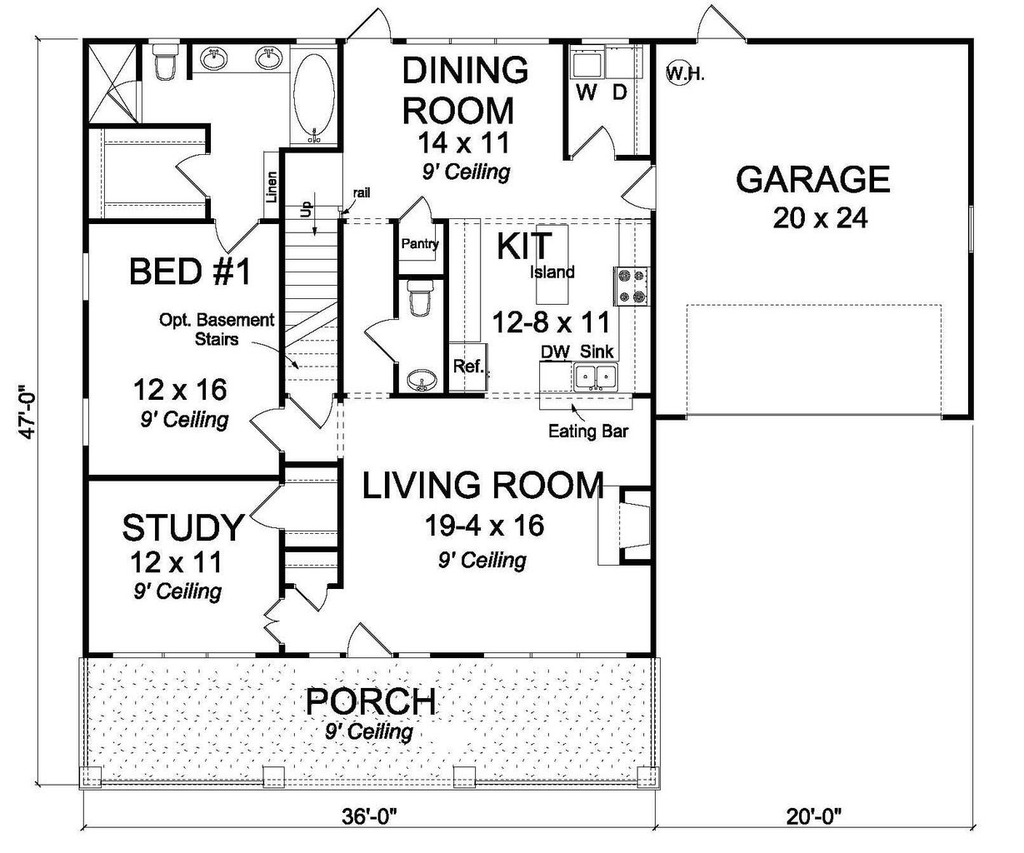door: (691, 6, 753, 53), (166, 149, 219, 201), (358, 315, 406, 370), (612, 160, 660, 215), (206, 210, 256, 260), (345, 615, 398, 657), (352, 9, 414, 43), (252, 473, 290, 527), (291, 387, 335, 430), (569, 123, 619, 159), (248, 407, 285, 453), (398, 194, 445, 226), (295, 582, 336, 615), (262, 598, 286, 640)
large_sink: (149, 41, 187, 87), (405, 286, 433, 316)
small_sink: (194, 43, 287, 70), (403, 368, 449, 395)
stairs: (283, 153, 343, 393)
tub: (285, 39, 339, 145)
twin_sink: (570, 355, 622, 395)
window: (102, 640, 261, 661), (493, 645, 635, 668), (74, 391, 99, 449), (78, 252, 99, 309)
